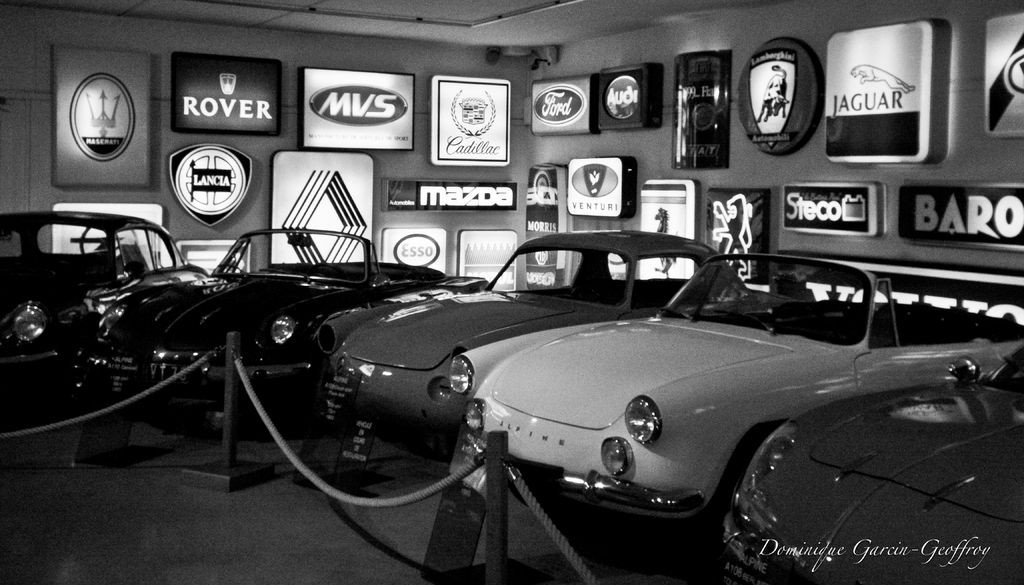Car: (0, 213, 1023, 584)
